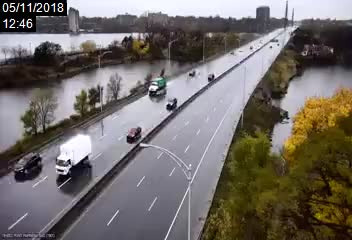personal_car: (14, 151, 41, 178), (126, 126, 141, 143), (165, 96, 178, 111), (188, 68, 197, 77), (206, 73, 216, 81)
truck: (55, 135, 91, 178), (149, 76, 167, 98)
